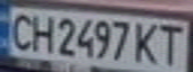2: (54, 15, 78, 56)
4: (75, 16, 96, 58)
7: (109, 18, 133, 62)
9: (90, 16, 115, 60)
C: (3, 10, 39, 52)
H: (27, 11, 57, 54)
K: (133, 19, 163, 65)
T: (154, 21, 187, 68)
